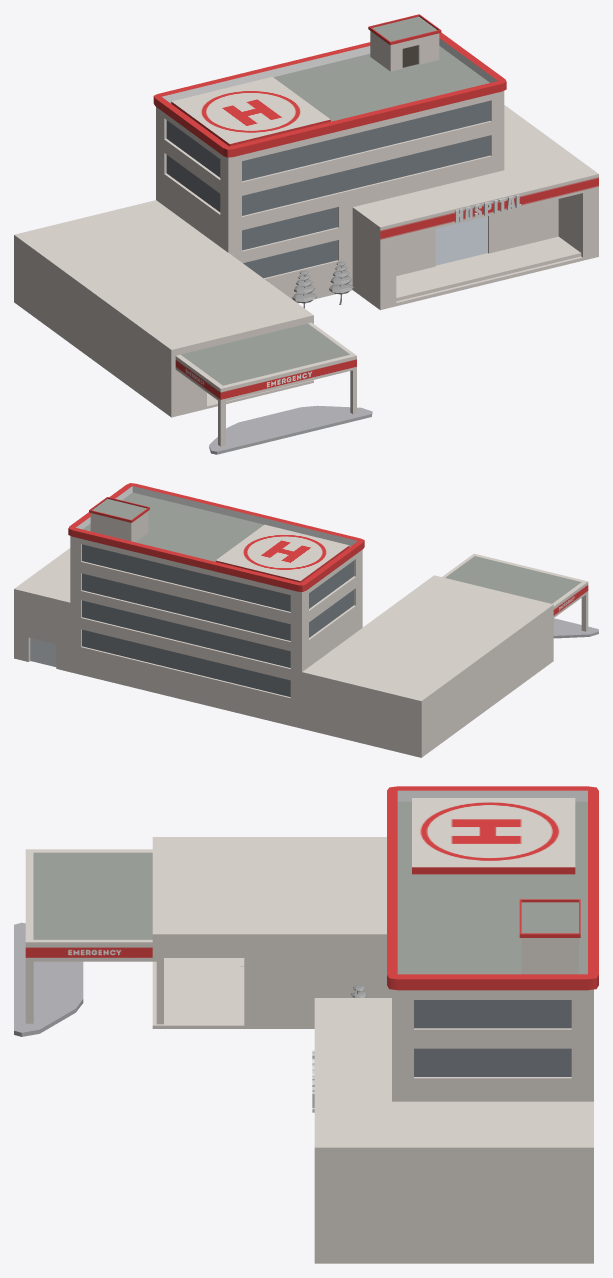
The model's file is hospital 1.fbx.
3 views of the same model, one above another, from view 1: azimuth 30°, elevation 25°; view 2: azimuth 150°, elevation 25°; view 3: azimuth 270°, elevation 25° (orthographic). The views are drawn at different scales.
Parts seen in each view (by area): view 1: pCube1937, pCube1905, pCube1911, pCube1906, pCube1910, typeMesh11; view 2: pCube1937, pCube1905, pCube1911, pCube1910, pCube1906; view 3: pCube1937, pCube1905, pCube1911, pCube1906, pCube1910.
Part boxes in pixels (x1,y1,x2,y2): pCube1937: (14, 32, 598, 417); pCube1905: (175, 322, 356, 446); pCube1911: (171, 77, 330, 146); pCube1906: (209, 405, 372, 454); pCube1910: (368, 14, 441, 71); typeMesh11: (455, 194, 521, 222); pCube1937: (14, 483, 553, 757); pCube1905: (442, 553, 588, 631); pCube1911: (215, 524, 349, 582); pCube1910: (89, 497, 149, 542); pCube1906: (553, 618, 598, 638); pCube1937: (152, 786, 598, 1263); pCube1905: (25, 849, 163, 1024); pCube1911: (412, 798, 575, 874); pCube1906: (14, 922, 83, 1036); pCube1910: (519, 899, 580, 974).
Bounding box in the file's own units: 213 × 80.18 × 156.
